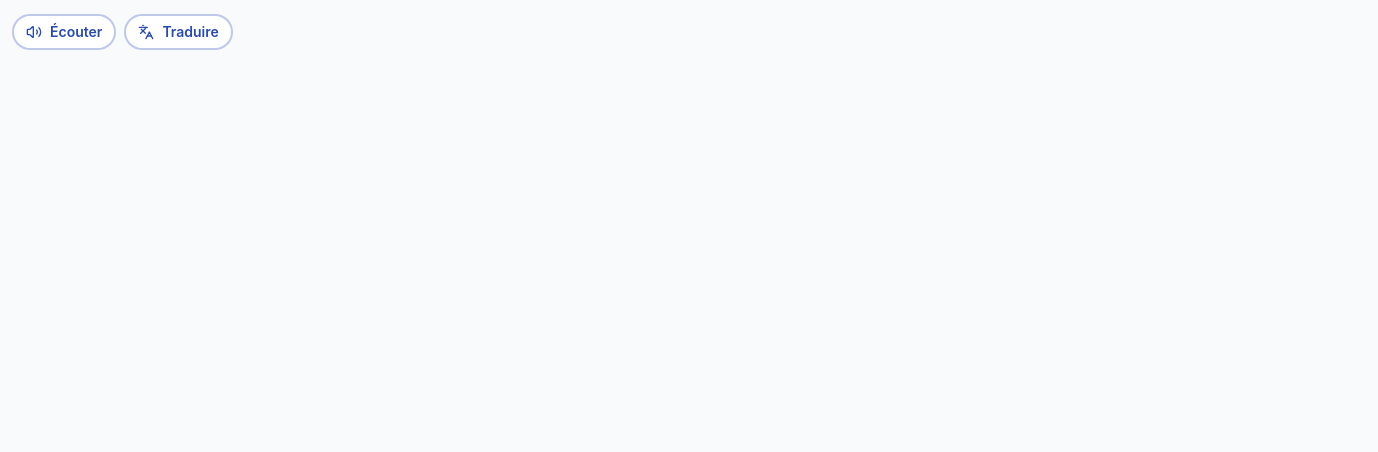
it: Question assistance rules › only saves help locale, keeps ordered translations and never sends the hidden correction
Step 1. Click the button "Traduire" → (179, 32), box [124,14,233,50]
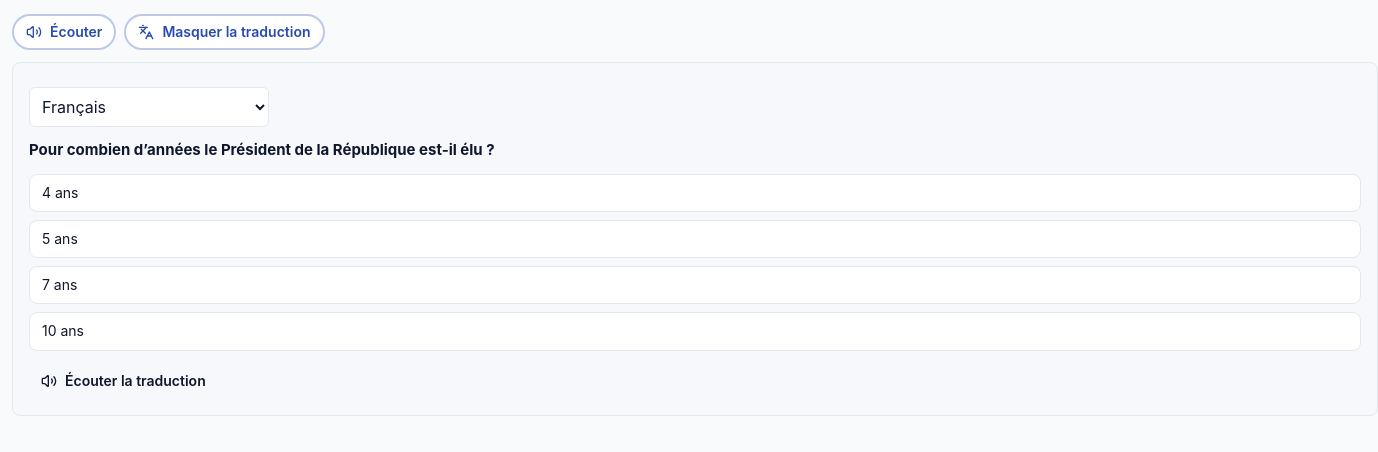
Step 2. Select "中文" in the dropdown → (149, 107), box [29,87,269,127]
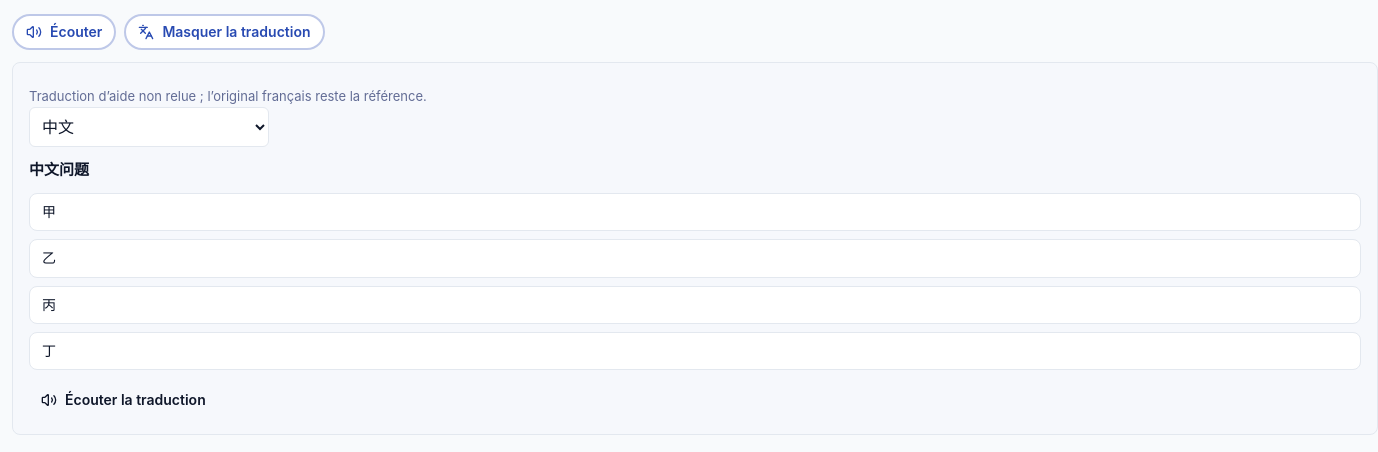
Now the text "中文问题" is shown, box [29,160,89,178]
Now the list items read "甲", "乙", "丙", "丁", in this order, box [29,193,1361,231]; [29,239,1361,278]; [29,286,1361,324]; [29,332,1361,370]
